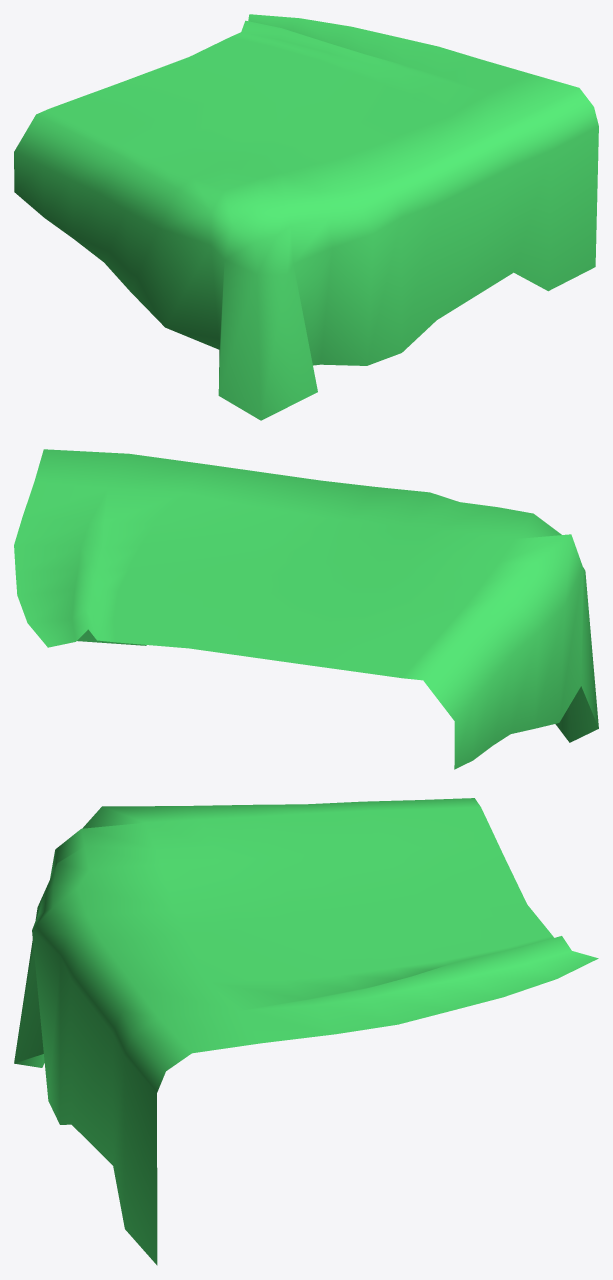
The model's file is Picnic_Mattress_low.fbx.
3 views of the same model, one above another, from view 1: azimuth 30°, elevation 25°; view 2: azimuth 150°, elevation 25°; view 3: azimuth 270°, elevation 25° (orthographic). The views are drawn at different scales.
Visible parts, largest first — view 1: Picnic_Mattress; view 2: Picnic_Mattress; view 3: Picnic_Mattress.
Boxes of the visible parts, <box> form: Picnic_Mattress: <box>14,14,598,420</box>; Picnic_Mattress: <box>14,449,598,769</box>; Picnic_Mattress: <box>14,798,598,1265</box>.
Bounding box in the file's own units: 1134 × 473 × 1004.
